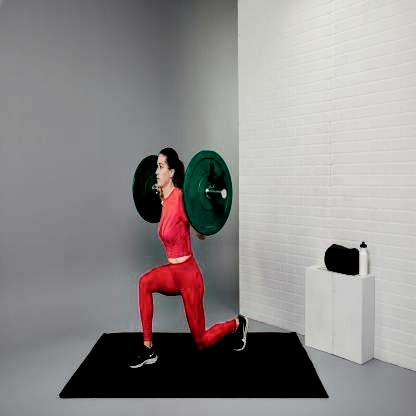Barbell: (217, 184, 228, 203)
